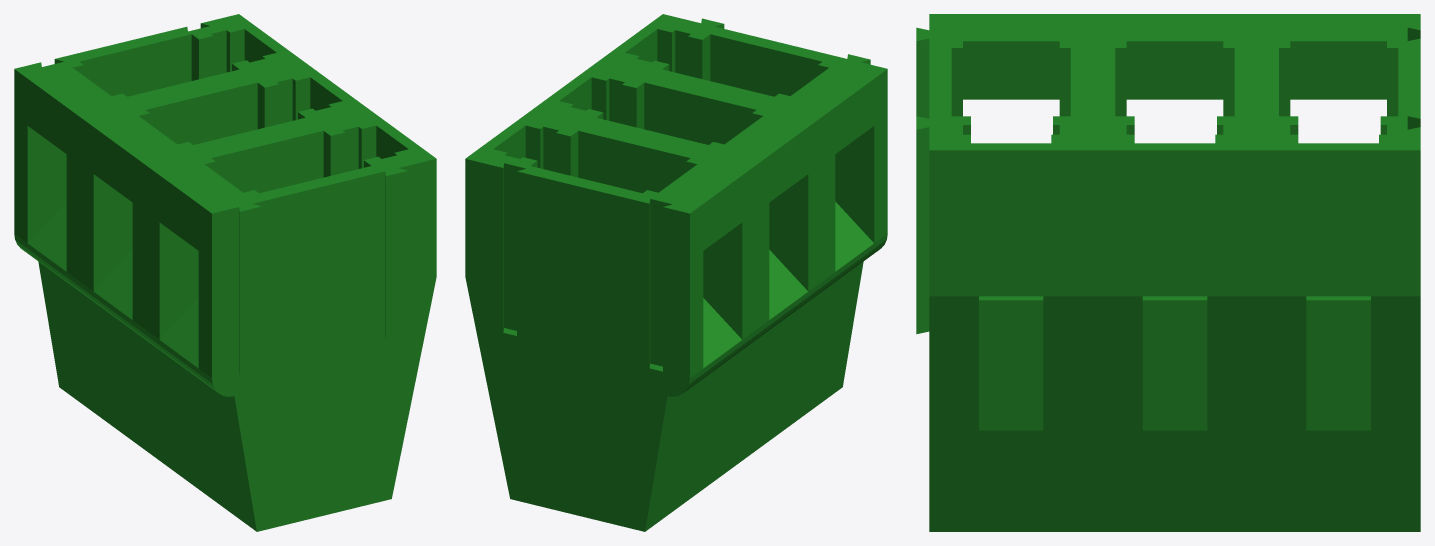
Rendered from zatana_terra_base_vis_101.dae.
The picture shows the model from 3 angles, left to right: view 1: azimuth 30°, elevation 25°; view 2: azimuth 150°, elevation 25°; view 3: azimuth 270°, elevation 25°; orthographic projection. The views are drawn at different scales.
Parts seen in each view (by area): view 1: Node_00000231837455D0; view 2: Node_00000231837455D0; view 3: Node_00000231837455D0.
Part boxes in pixels (box(x1,y1,x2,y2)): Node_00000231837455D0: box(14, 14, 436, 531); Node_00000231837455D0: box(465, 14, 887, 531); Node_00000231837455D0: box(916, 14, 1420, 531).
Bounding box in the file's own units: 0.01 × 0.014 × 0.0156.
